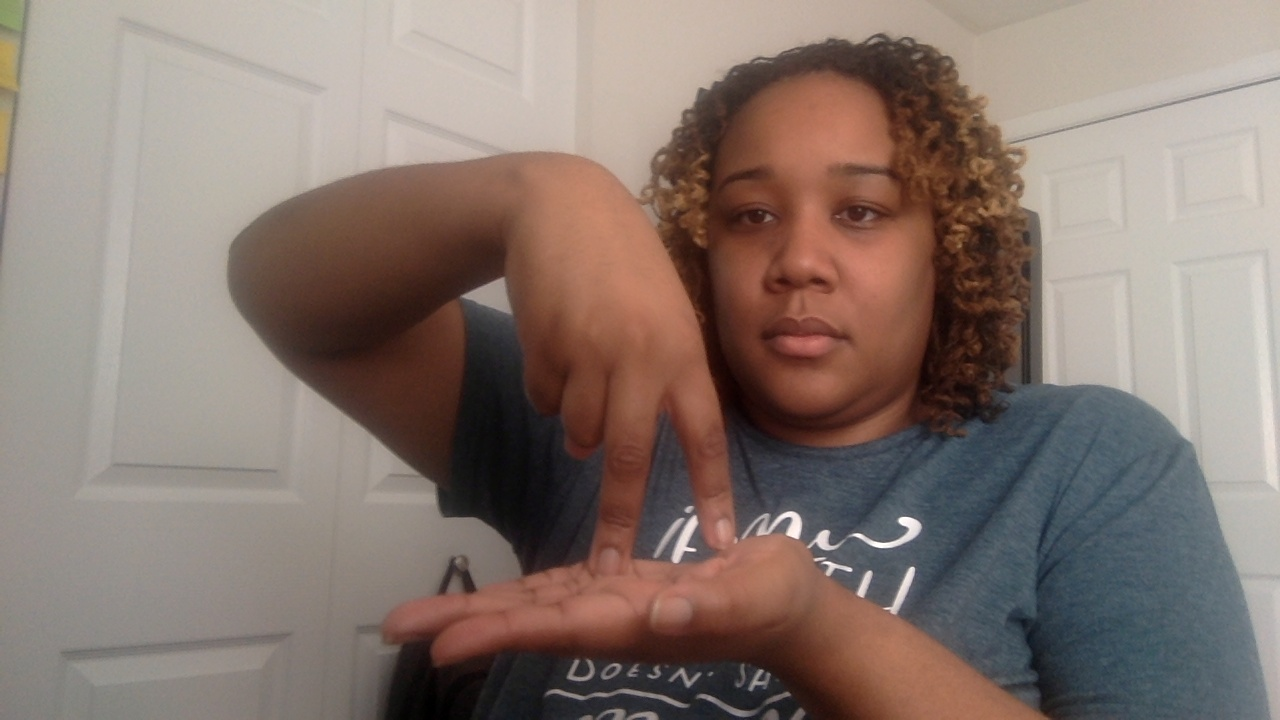fork: (380, 154, 819, 674)
